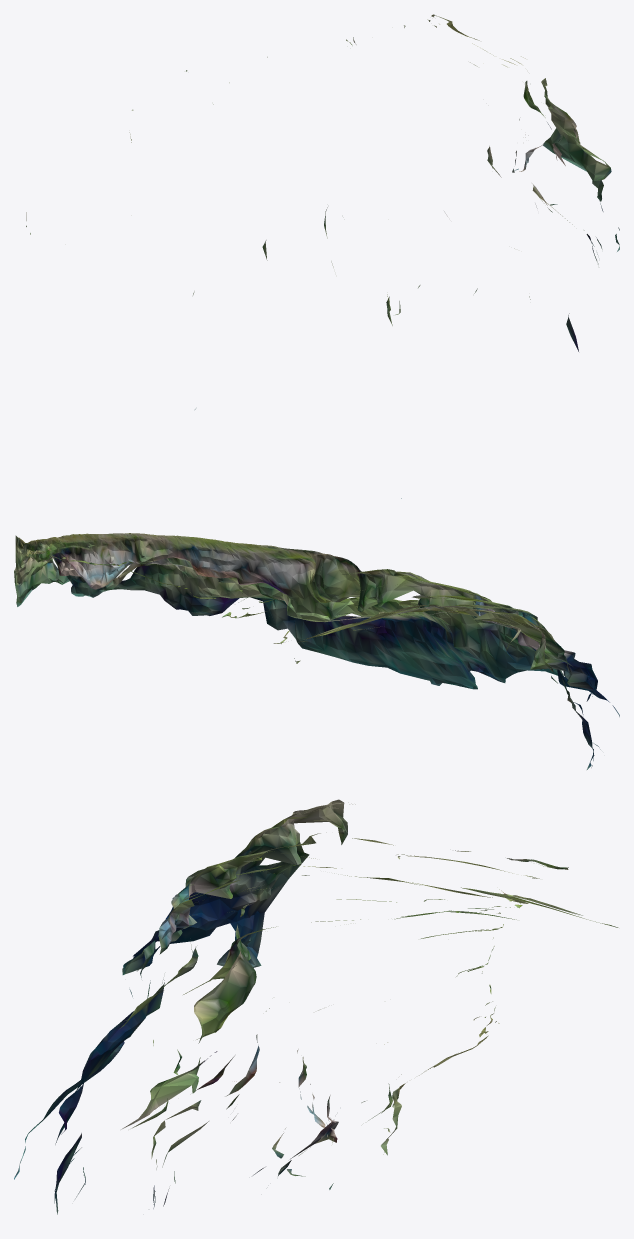
The model's file is render_lod2.glb.
3 renders of one model, top to bottom at view 1: azimuth 30°, elevation 25°; view 2: azimuth 150°, elevation 25°; view 3: azimuth 270°, elevation 25°, orthographic. The views are drawn at different scales.
Parts seen in each view (by area): view 1: geometry_0; view 2: geometry_0; view 3: geometry_0.
Boxes of the visible parts, left/top/right/bottom form: geometry_0: left=26, top=14, right=619, bottom=498; geometry_0: left=14, top=533, right=619, bottom=769; geometry_0: left=14, top=799, right=618, bottom=1214.
Bounding box in the file's own units: 1.33 × 0.556 × 1.08.
